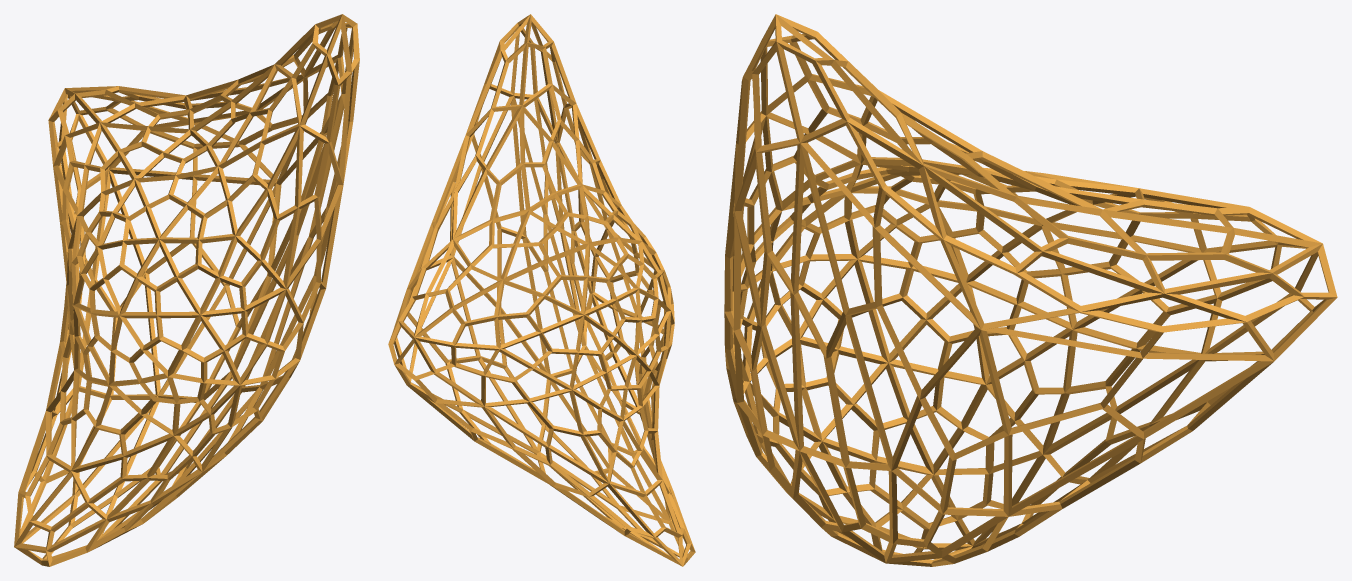
The model's file is AdornoGema1.fbx.
The picture shows the model from 3 angles, left to right: view 1: azimuth 30°, elevation 25°; view 2: azimuth 150°, elevation 25°; view 3: azimuth 270°, elevation 25°; orthographic projection. The views are drawn at different scales.
Visible parts, largest first — view 1: Adornogema1; view 2: Adornogema1; view 3: Adornogema1.
Boxes of the visible parts, x1=… form: Adornogema1: x1=14, y1=14, x2=359, y2=566; Adornogema1: x1=388, y1=14, x2=695, y2=566; Adornogema1: x1=724, y1=14, x2=1337, y2=566.
Size of the model in its own units: 415 by 749 by 587.
